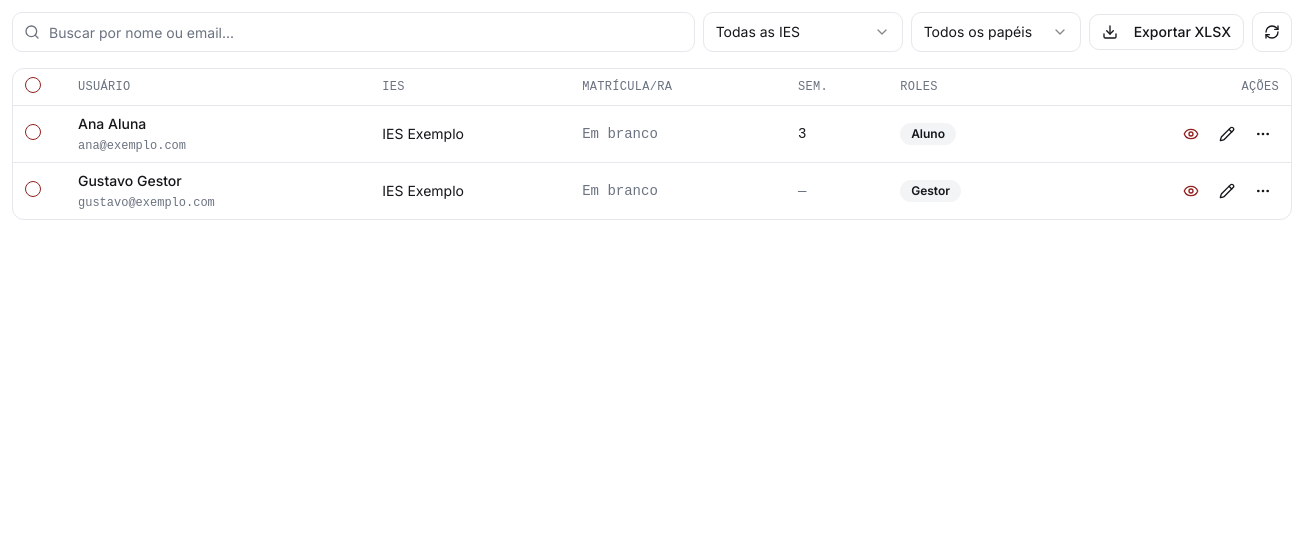
Test: UsersListTable › mostra "Acessar como Gestor" para usuário com role gestor quando pode impersonar
The image size is (1304, 548).
Expected: the text "Gustavo Gestor" is shown, [78,170,182,190]
Step 1. Click the button named "Mais ações" in the row of "Gustavo Gestor" → point(1263, 190), box [1247,174,1279,206]
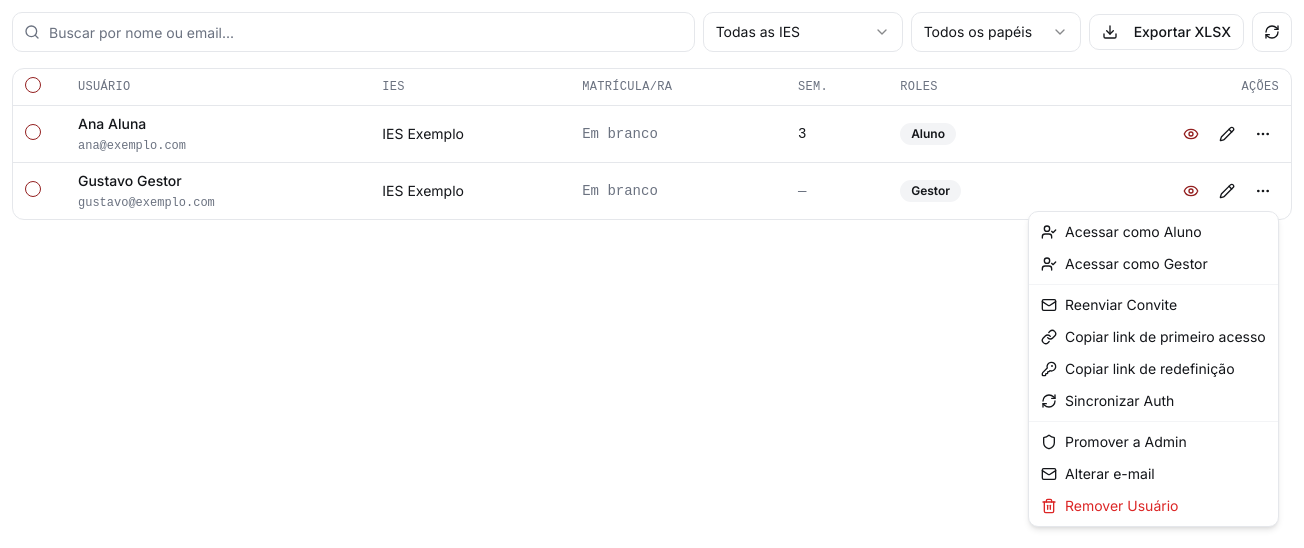
Now the menu item "Acessar como Gestor" is shown, box [1041,255,1208,272]
